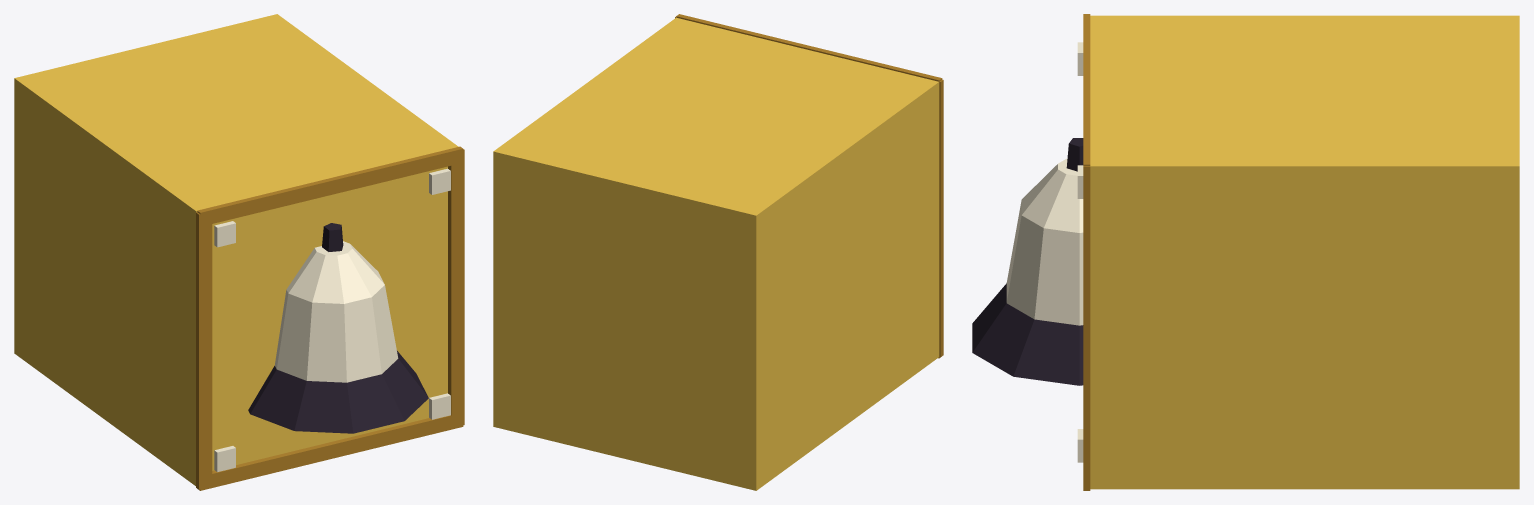
File: block-note.glb
3 views of the same model, side by side, from view 1: azimuth 30°, elevation 25°; view 2: azimuth 150°, elevation 25°; view 3: azimuth 270°, elevation 25° (orthographic). The views are drawn at different scales.
Visible parts, largest first — view 1: Model; view 2: Model; view 3: Model.
Boxes of the visible parts, x1,y1,x2,y2 form: Model: [14, 14, 464, 490]; Model: [493, 14, 943, 490]; Model: [972, 14, 1519, 490].
Bounding box in the file's own units: 0.99 × 0.99 × 1.5.
Materials: 1 (1 with a texture image).
